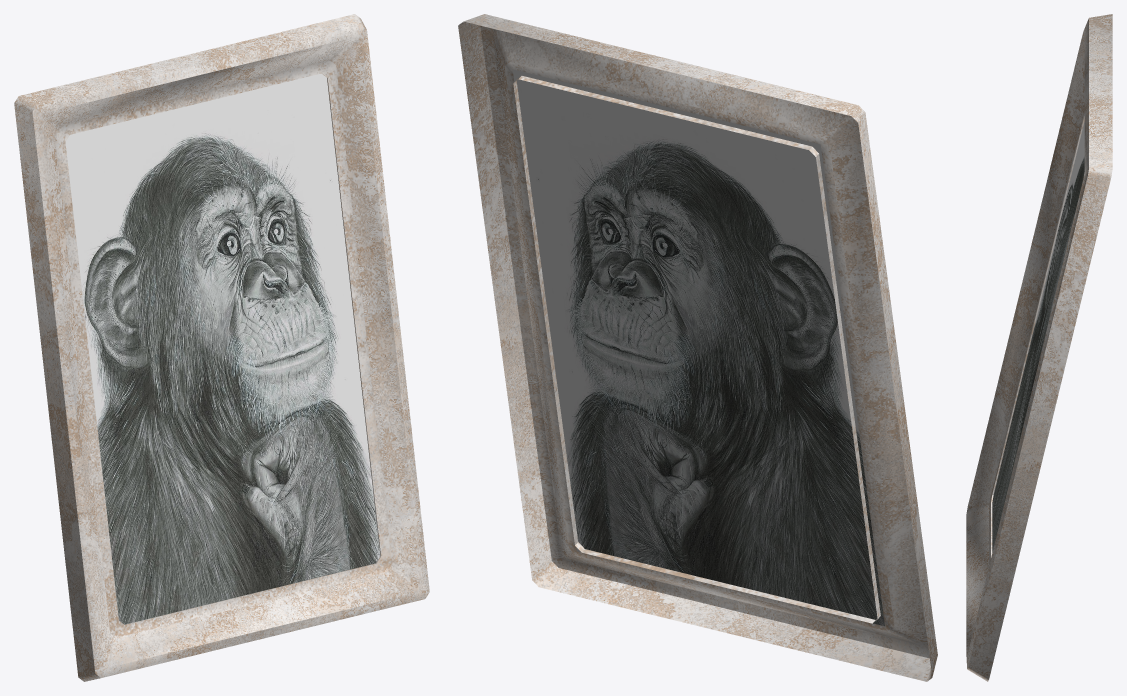
The model's file is Thinking Monkey.fbx.
3 views of the same model, side by side, from view 1: azimuth 30°, elevation 25°; view 2: azimuth 150°, elevation 25°; view 3: azimuth 270°, elevation 25° (orthographic). The views are drawn at different scales.
Visible parts, largest first — view 1: KitschPainting, PaintingFrame.002; view 2: KitschPainting, PaintingFrame.002; view 3: PaintingFrame.002, KitschPainting.
Part boxes in pixels (left/top/right/bottom): KitschPainting: left=65, top=73, right=380, bottom=624; PaintingFrame.002: left=14, top=14, right=429, bottom=681; KitschPainting: left=512, top=69, right=884, bottom=626; PaintingFrame.002: left=458, top=14, right=937, bottom=681; PaintingFrame.002: left=966, top=14, right=1112, bottom=681; KitschPainting: left=992, top=122, right=1084, bottom=552.
Bounding box in the file's own units: 309 × 459 × 119.
